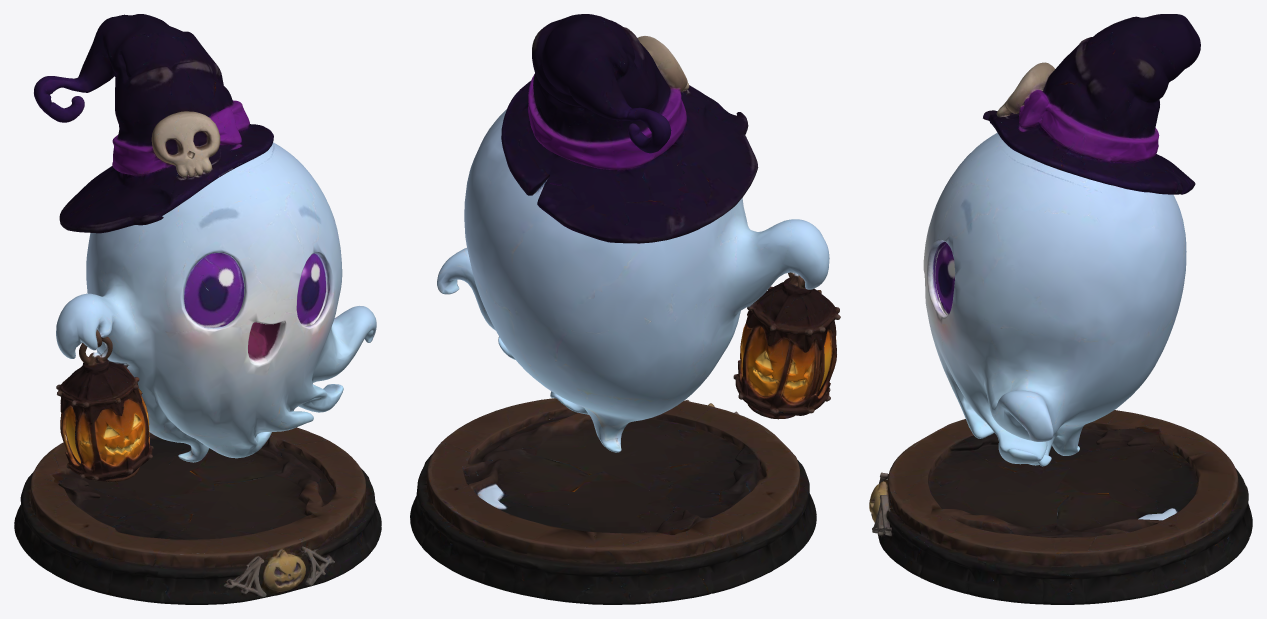
File: boo.glb
The picture shows the model from 3 angles, left to right: view 1: azimuth 30°, elevation 25°; view 2: azimuth 150°, elevation 25°; view 3: azimuth 270°, elevation 25°; orthographic projection. The views are drawn at different scales.
Size of the model in its own units: 1.37 by 1.9 by 1.32.
1 material, 1 textured.
